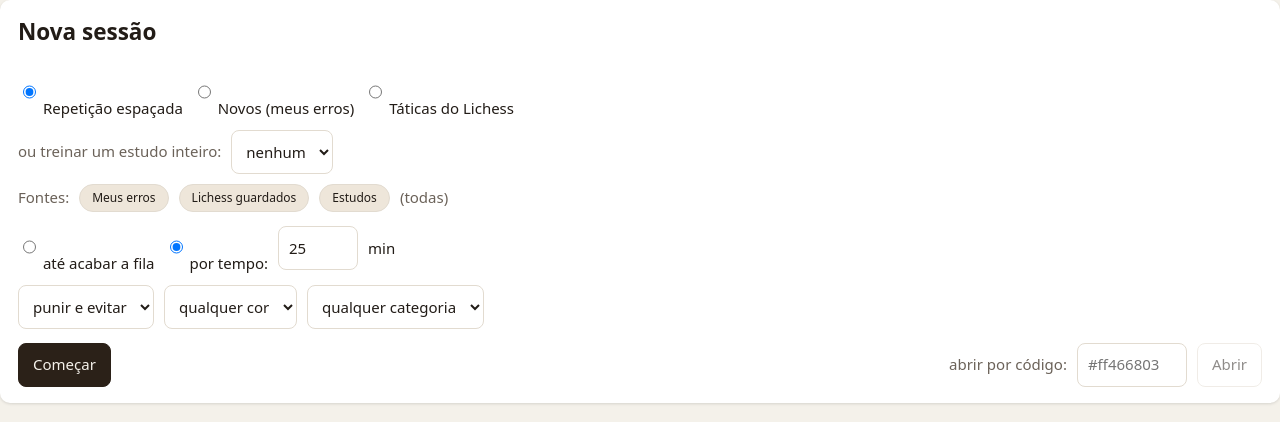
com filtro ativo aparece a contagem de vencidos com esses filtros
Check: the text "com estes filtros" is not shown
Click the button "Lichess guardados": click(244, 198) [179, 184, 309, 212]
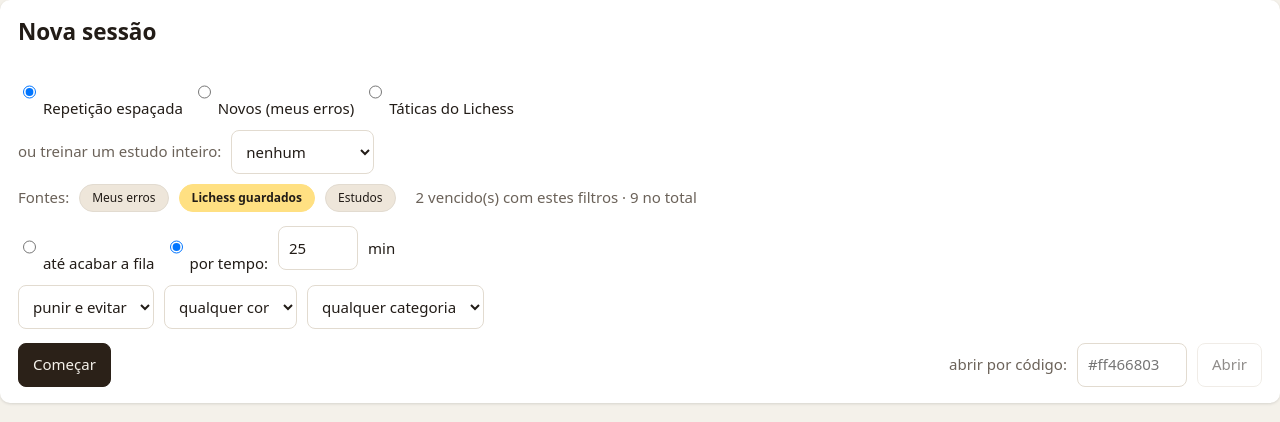
Check: the text "2 vencido(s) com estes filtros · 9 no total" is shown, box [416, 187, 697, 209]
